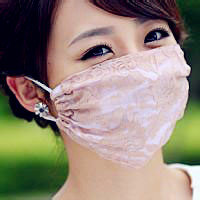face_mask: (44, 1, 191, 157)
